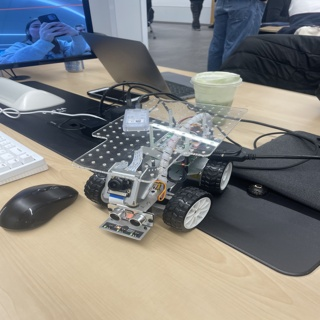vehicle: (71, 95, 250, 236)
